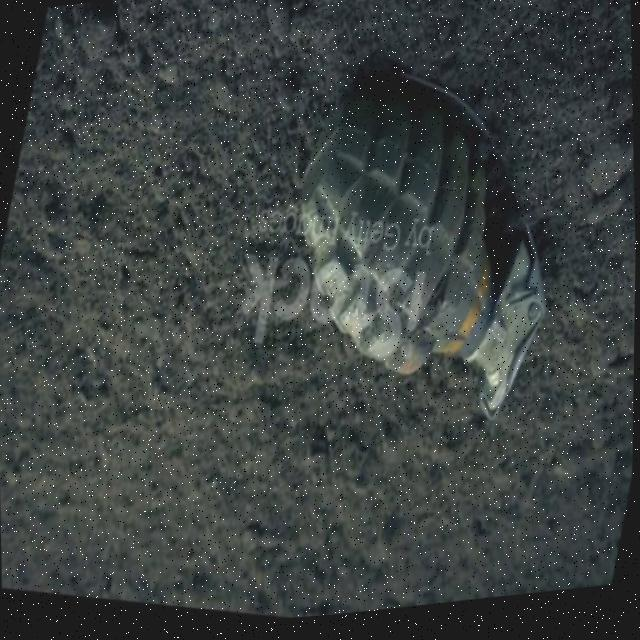grenade: (238, 40, 606, 461)
